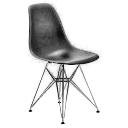chair_success: (18, 0, 109, 125)
